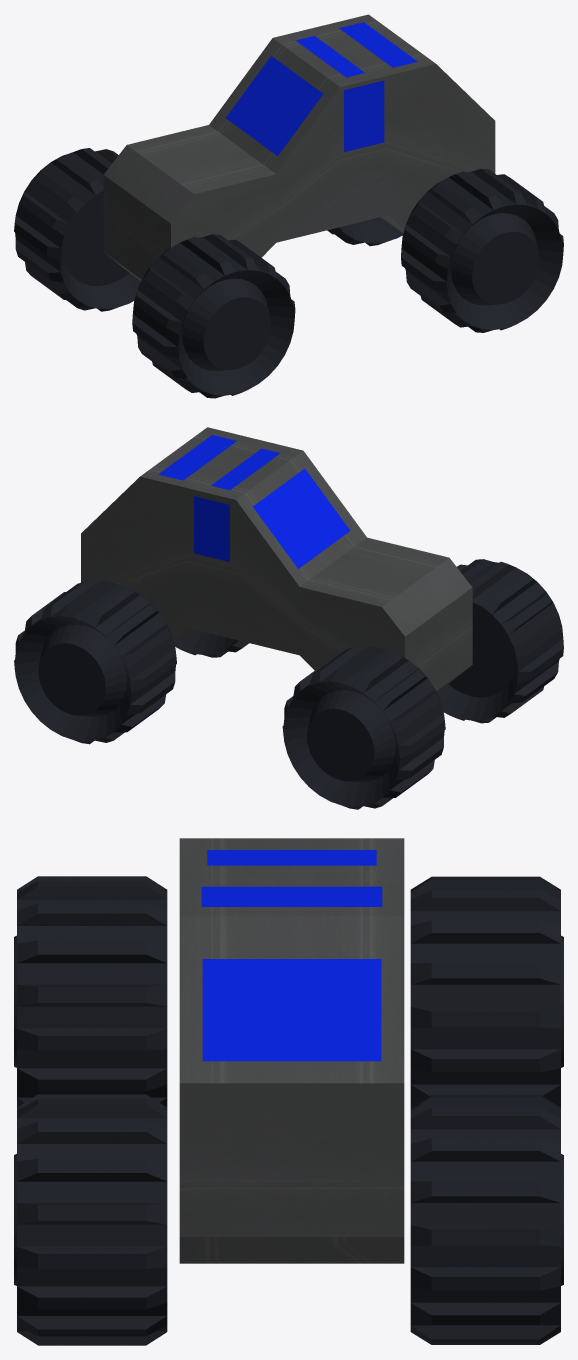
File: rover_1.glb
The picture shows the model from 3 angles, top to bottom: view 1: azimuth 30°, elevation 25°; view 2: azimuth 150°, elevation 25°; view 3: azimuth 270°, elevation 25°; orthographic projection. The views are drawn at different scales.
Visible parts, largest first — view 1: chassis, wheel_fl, wheel_bl, wheel_fr, wheel_br; view 2: chassis, wheel_br, wheel_fr, wheel_fl, wheel_bl; view 3: chassis, wheel_bl, wheel_br, wheel_fr, wheel_fl.
Part boxes in pixels (left/top/right/bottom): chassis: left=103, top=14, right=495, bottom=280; wheel_fl: left=132, top=234, right=295, bottom=398; wheel_bl: left=401, top=168, right=563, bottom=332; wheel_fr: left=14, top=148, right=140, bottom=311; wheel_br: left=327, top=217, right=403, bottom=246; chassis: left=81, top=427, right=472, bottom=691; wheel_br: left=14, top=580, right=176, bottom=744; wheel_fr: left=282, top=646, right=445, bottom=809; wheel_fl: left=437, top=559, right=563, bottom=723; wheel_bl: left=174, top=630, right=248, bottom=657; chassis: left=179, top=838, right=404, bottom=1263; wheel_bl: left=14, top=1094, right=167, bottom=1345; wheel_br: left=410, top=1094, right=563, bottom=1344; wheel_fr: left=410, top=876, right=563, bottom=1107; wheel_fl: left=14, top=876, right=167, bottom=1107.
Size of the model in its own units: 6.83 by 3.94 by 4.9.
3 materials, 2 textured.
